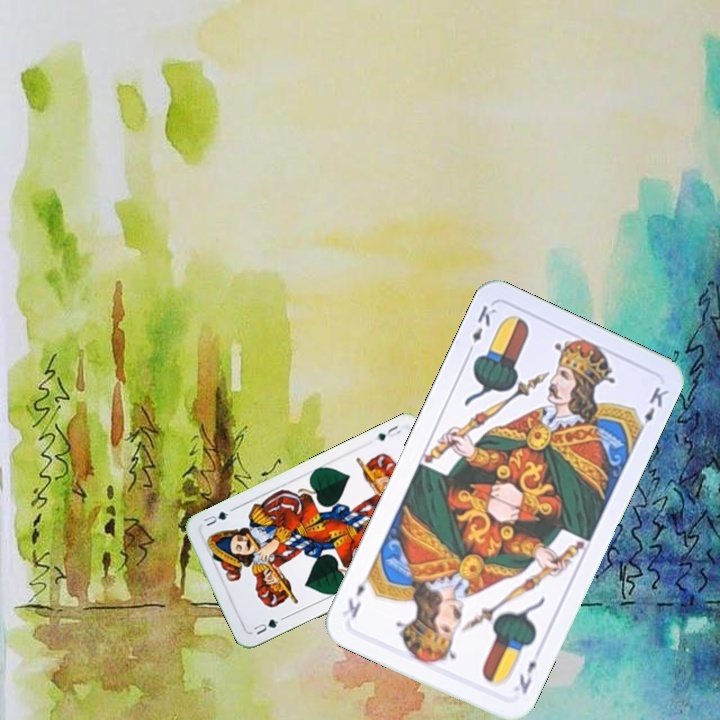EK: (463, 301, 499, 358), (515, 656, 539, 697)
GU: (250, 613, 287, 638), (371, 421, 403, 443)
